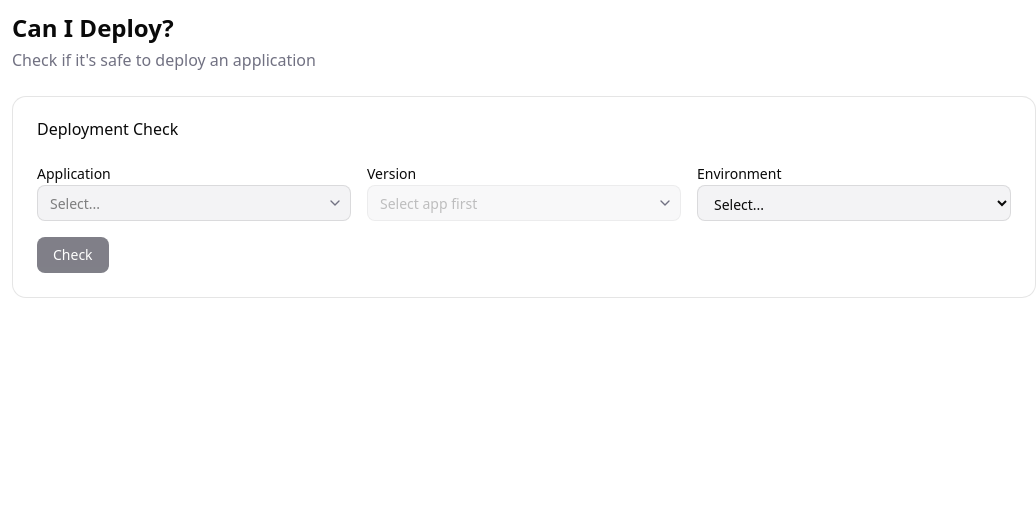
Scenario: CanIDeployPage › should show SAFE result with green badge after submitting
Click the dropdown with placeholder "Select..." at (194, 203), box [37,185,351,221]
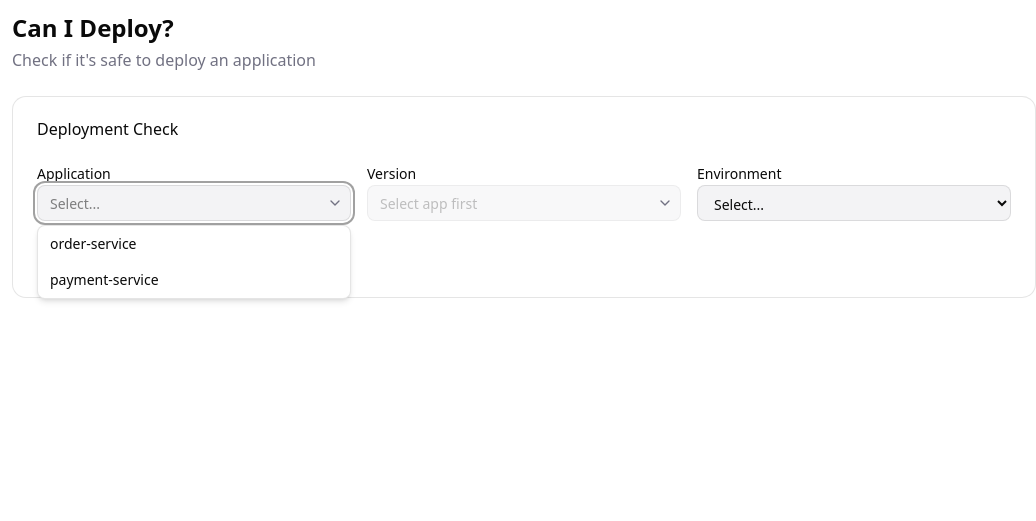
Expected: the option "order-service" is shown
Click the option "order-service" at (93, 244), box [50,234,136,253]
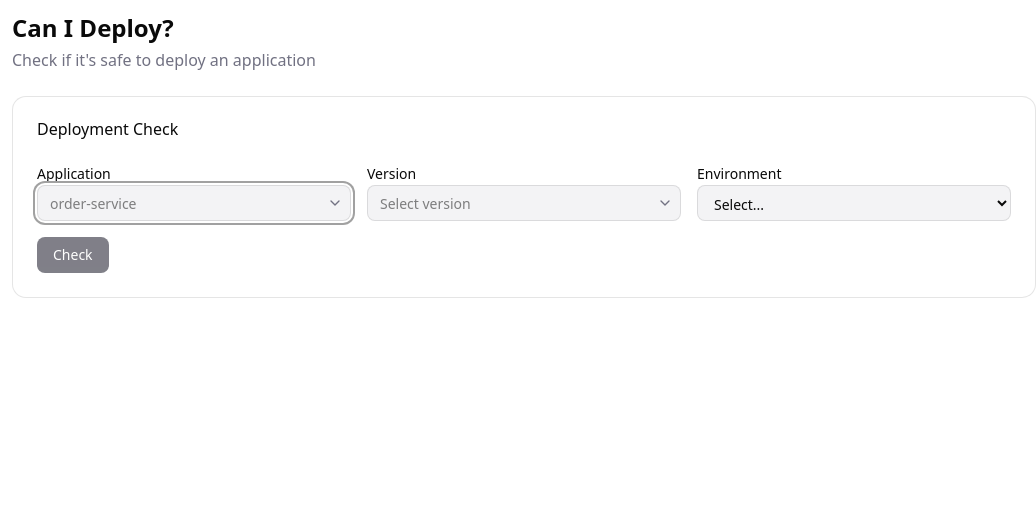
Expected: the dropdown with placeholder "Select version" is enabled
Click the dropdown with placeholder "Select version" at (524, 203), box [367,185,681,221]
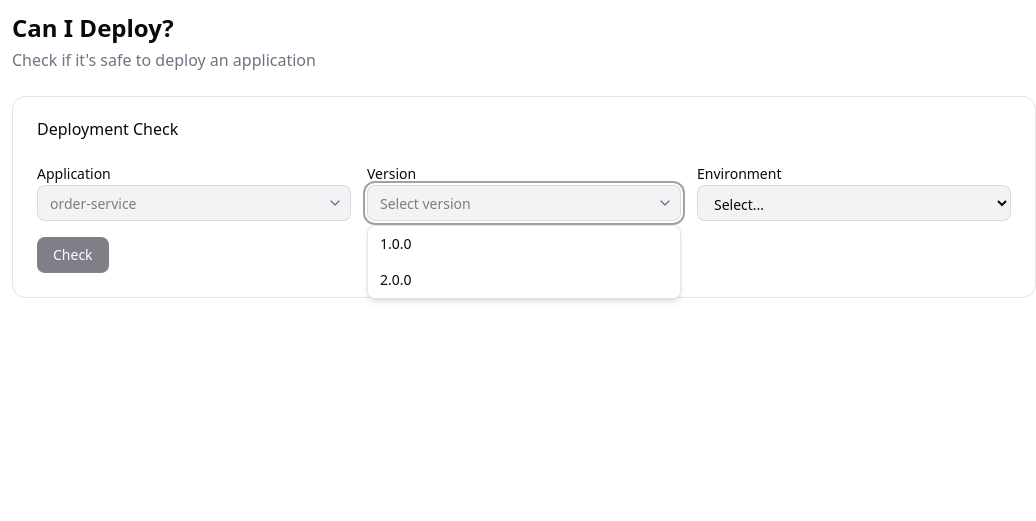
Expected: the option "1.0.0" is shown
Click the option "1.0.0" at (396, 244), box [380,234,412,253]
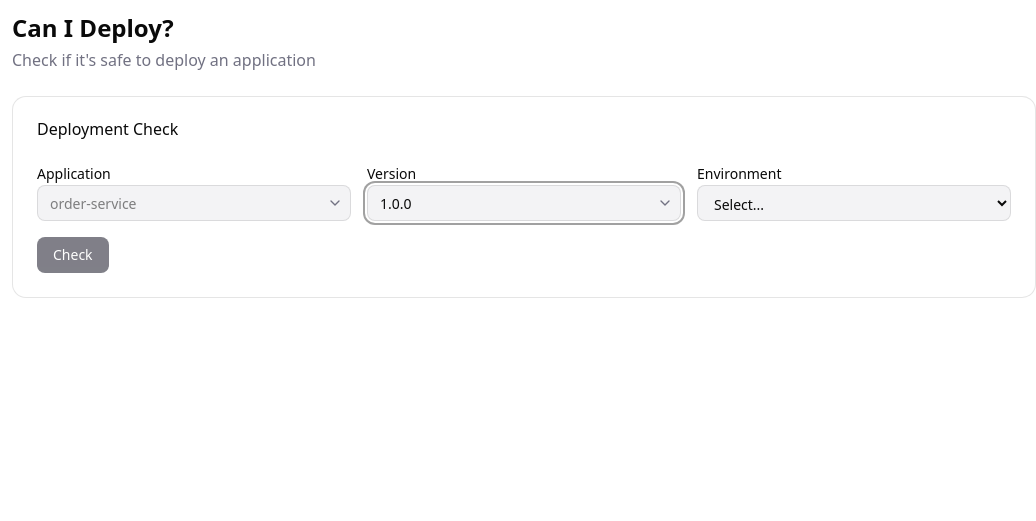
Select "staging" in the dropdown labelled "Environment" at (854, 203), box [697,185,1011,221]
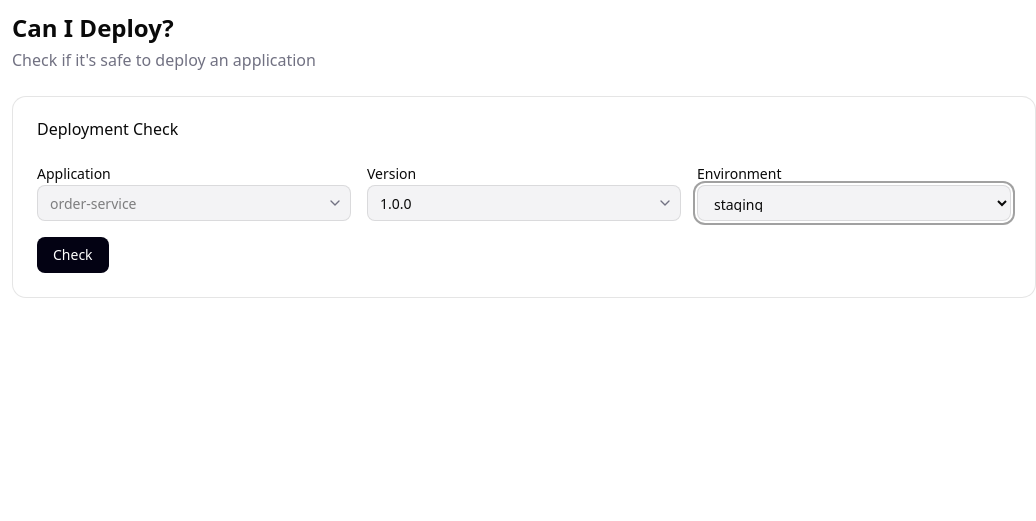
Click the button "Check" at (73, 255), box [37,237,109,273]
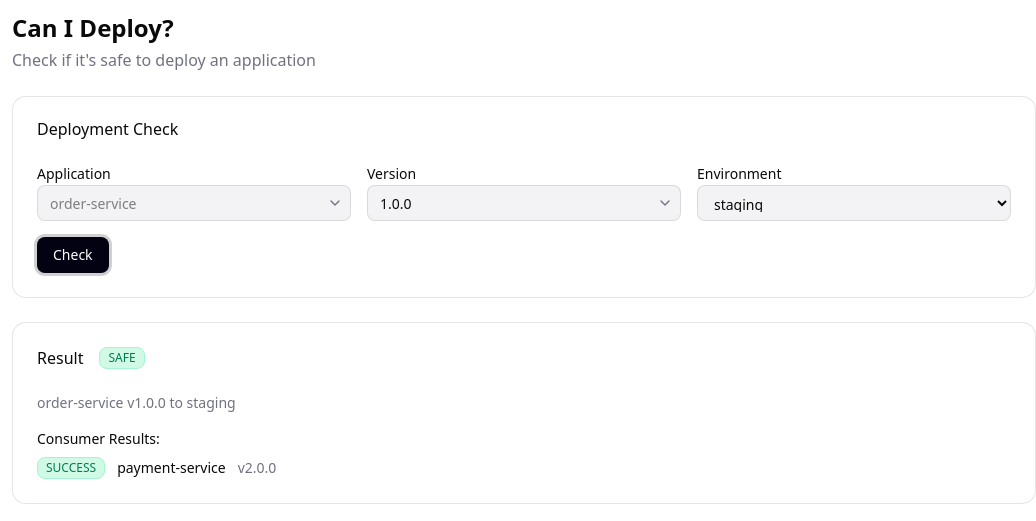
Expected: the text "SAFE" is shown, [99,347,145,369]
Expected: the heading "Result" is shown, [37,350,83,366]
